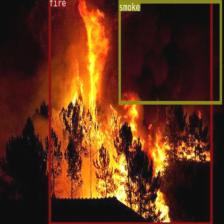fire: (48, 0, 212, 224)
smoke: (119, 0, 221, 103)
